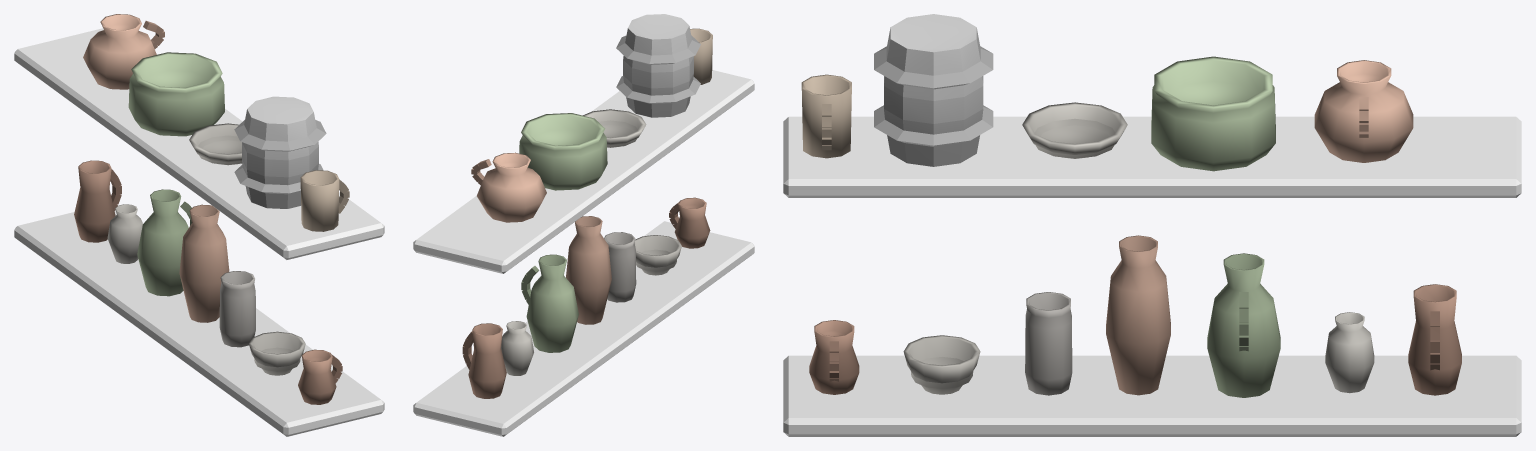
Rendered from jar_shelf.glb.
The picture shows the model from 3 angles, left to right: view 1: azimuth 30°, elevation 25°; view 2: azimuth 150°, elevation 25°; view 3: azimuth 270°, elevation 25°; orthographic projection. The views are drawn at different scales.
Parts seen in each view (by area): view 1: barrel; view 2: barrel; view 3: barrel.
Part boxes in pixels (<box>): barrel: <box>14,14,384,436</box>; barrel: <box>413,14,754,436</box>; barrel: <box>783,14,1521,436</box>.
Bounding box in the file's own units: 0.3 × 0.78 × 1.4.
